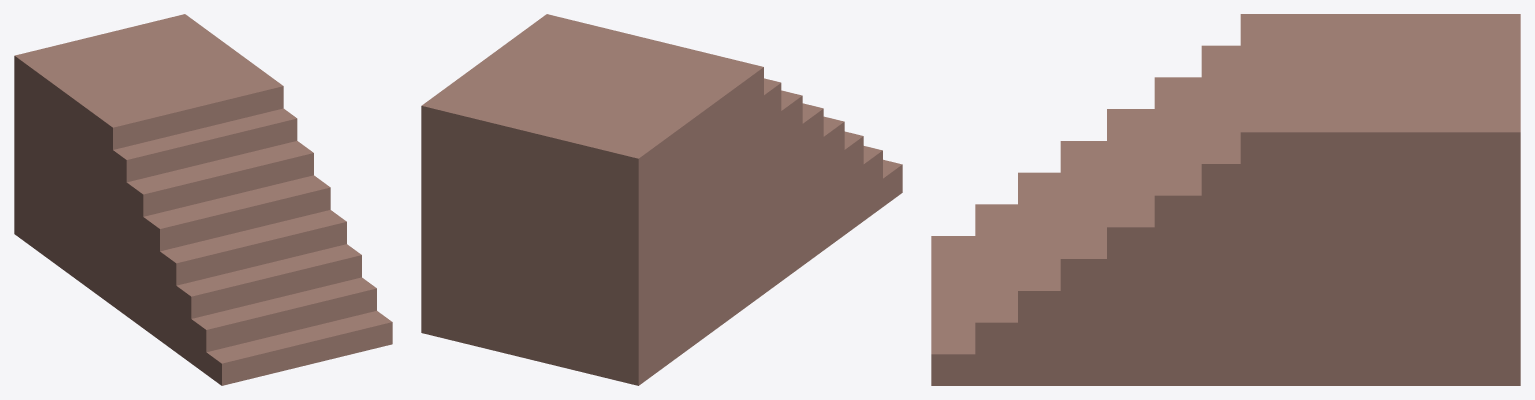
The model's file is Stairs.fbx.
3 renders of one model, left to right at view 1: azimuth 30°, elevation 25°; view 2: azimuth 150°, elevation 25°; view 3: azimuth 270°, elevation 25°, orthographic. The views are drawn at different scales.
Parts seen in each view (by area): view 1: pCube1; view 2: pCube1; view 3: pCube1.
Boxes of the visible parts, left/top/right/bottom form: pCube1: left=14, top=14, right=392, bottom=385; pCube1: left=421, top=14, right=902, bottom=385; pCube1: left=931, top=14, right=1520, bottom=385.
Bounding box in the file's own units: 480 × 480 × 1011.
